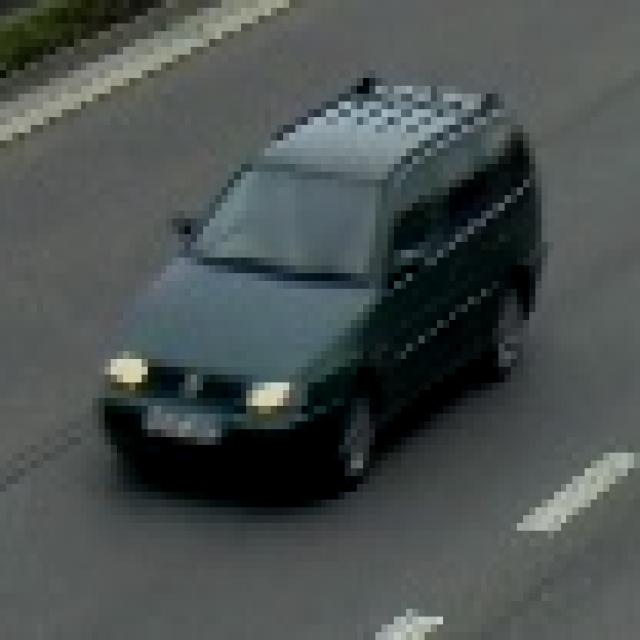SUV: (125, 95, 522, 492)
